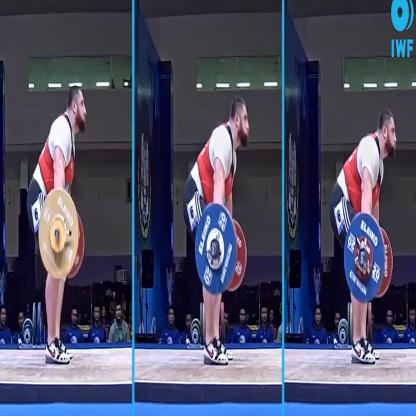Barbell: (335, 204, 390, 307), (192, 196, 240, 305), (35, 183, 81, 286)
